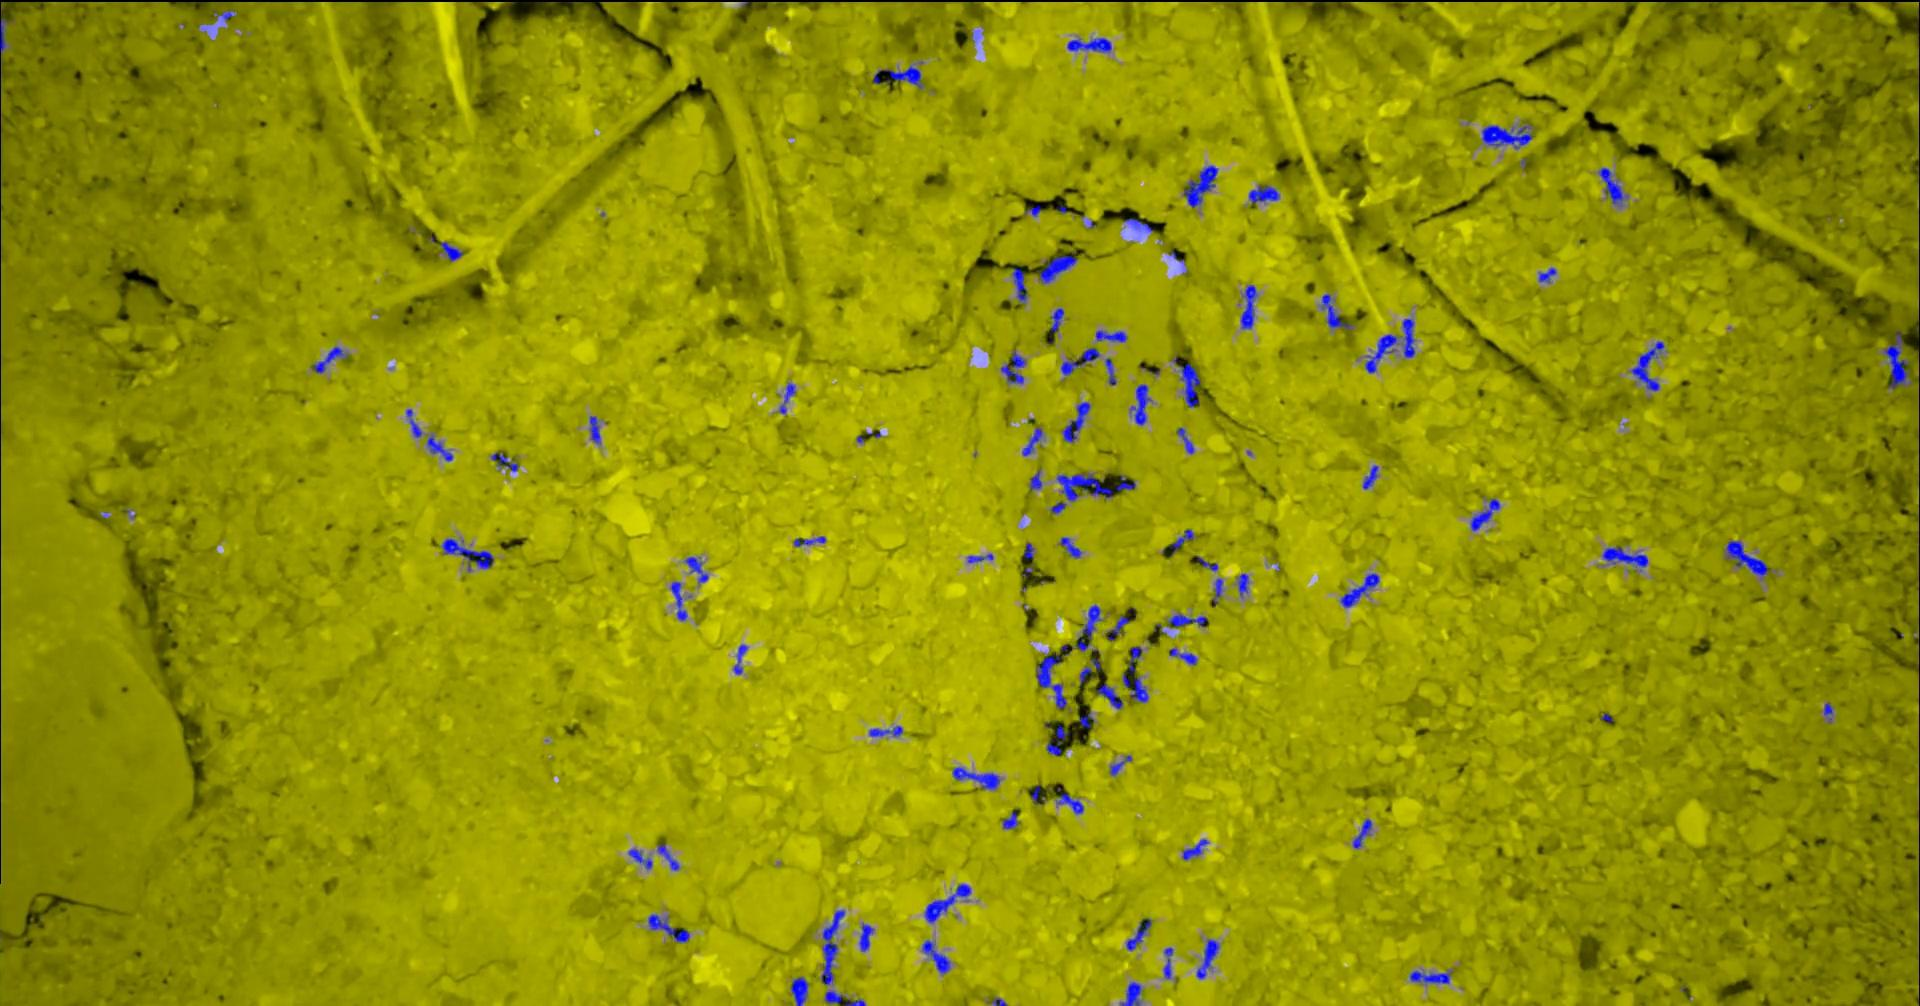ant: (1057, 473, 1135, 500), (1062, 605, 1100, 654), (924, 883, 970, 922), (1035, 652, 1065, 709), (822, 909, 844, 984), (441, 539, 493, 570), (1630, 340, 1663, 390), (1726, 540, 1768, 575), (1883, 332, 1909, 387), (1123, 647, 1148, 702), (1340, 572, 1379, 607), (1183, 165, 1217, 207), (1364, 334, 1397, 372), (1481, 124, 1531, 149), (648, 915, 690, 942), (1037, 251, 1076, 282), (1062, 401, 1090, 442), (872, 65, 922, 88), (951, 766, 999, 789), (1321, 293, 1351, 329), (1603, 546, 1647, 570), (1060, 347, 1098, 375), (921, 939, 950, 973), (311, 345, 347, 373), (1597, 166, 1624, 203), (1178, 363, 1200, 406), (1129, 384, 1150, 426), (1196, 939, 1219, 978), (1470, 498, 1498, 530), (1001, 351, 1025, 384), (1239, 285, 1257, 328), (1126, 918, 1150, 950), (1055, 786, 1083, 813), (425, 434, 452, 461), (1065, 37, 1111, 52), (1046, 724, 1069, 754), (670, 580, 687, 620), (684, 556, 709, 583), (1096, 683, 1123, 708), (824, 989, 865, 1005), (1170, 528, 1192, 555), (1021, 427, 1043, 455), (1107, 615, 1130, 640), (1352, 818, 1371, 848), (657, 843, 678, 870), (1119, 981, 1142, 1005), (1079, 657, 1100, 683), (1410, 970, 1451, 983), (1167, 614, 1208, 626), (1182, 838, 1208, 859), (1248, 185, 1279, 202), (778, 382, 795, 413), (1402, 318, 1415, 357), (490, 453, 518, 471), (790, 977, 808, 1005), (0, 18, 8, 83), (405, 408, 422, 437), (1012, 267, 1026, 301), (1059, 536, 1081, 558), (1109, 754, 1131, 775), (439, 241, 463, 260), (1176, 427, 1192, 453), (1170, 648, 1196, 664), (629, 848, 651, 868), (1123, 217, 1153, 231), (733, 644, 747, 674), (858, 923, 872, 951), (1095, 330, 1126, 342), (792, 536, 825, 546), (869, 725, 902, 735), (1103, 357, 1115, 385), (1363, 465, 1377, 488), (1050, 307, 1063, 332), (589, 415, 599, 443), (1196, 556, 1217, 570), (1538, 267, 1556, 282), (1002, 810, 1017, 828), (1163, 948, 1172, 978), (1237, 573, 1248, 596), (1029, 470, 1041, 490), (1211, 578, 1222, 603), (1078, 711, 1093, 728), (1031, 785, 1044, 804), (212, 10, 234, 20), (968, 553, 992, 561), (1050, 500, 1065, 513), (1823, 702, 1832, 719), (1023, 542, 1032, 558), (0, 123, 1, 187)
